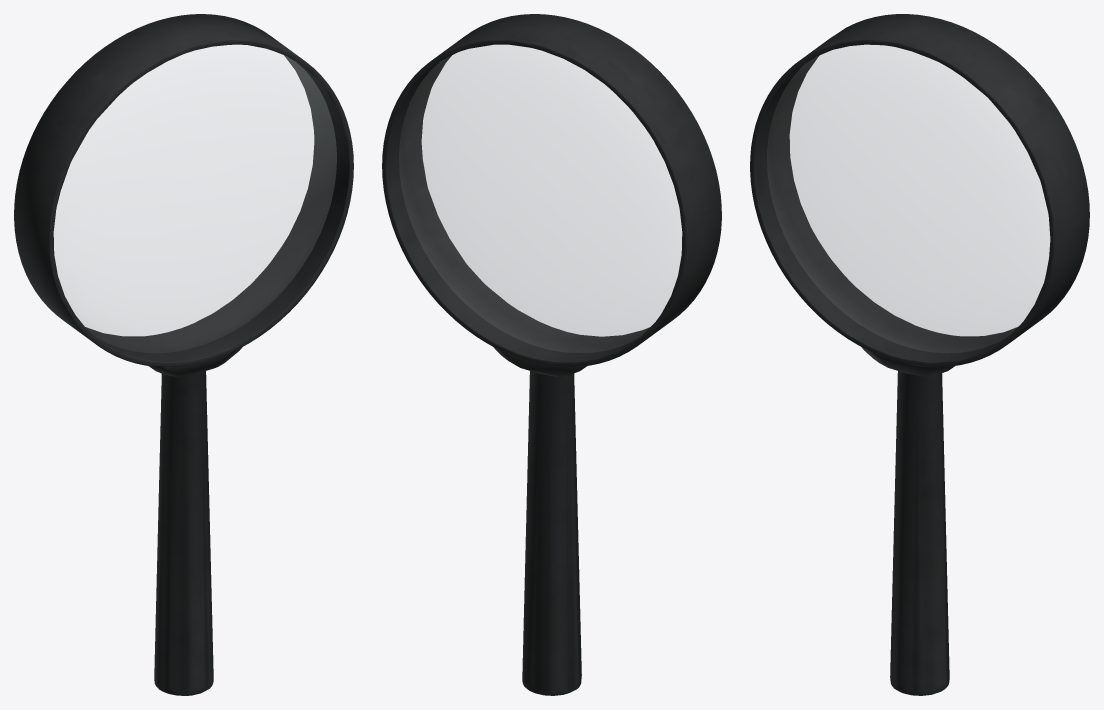
Rendered from magnifying_glass_01.glb.
3 renders of one model, left to right at view 1: azimuth 30°, elevation 25°; view 2: azimuth 150°, elevation 25°; view 3: azimuth 330°, elevation 25°, orthographic.
Parts seen in each view (by area): view 1: magnifying_glass_01; view 2: magnifying_glass_01; view 3: magnifying_glass_01.
Boxes of the visible parts, x1,y1,x2,y2 form: magnifying_glass_01: (14,14,353,695); magnifying_glass_01: (382,14,721,695); magnifying_glass_01: (750,14,1089,695).
Bounding box in the file's own units: 0.1321 × 0.2715 × 0.0267.
2 materials, 1 textured.
